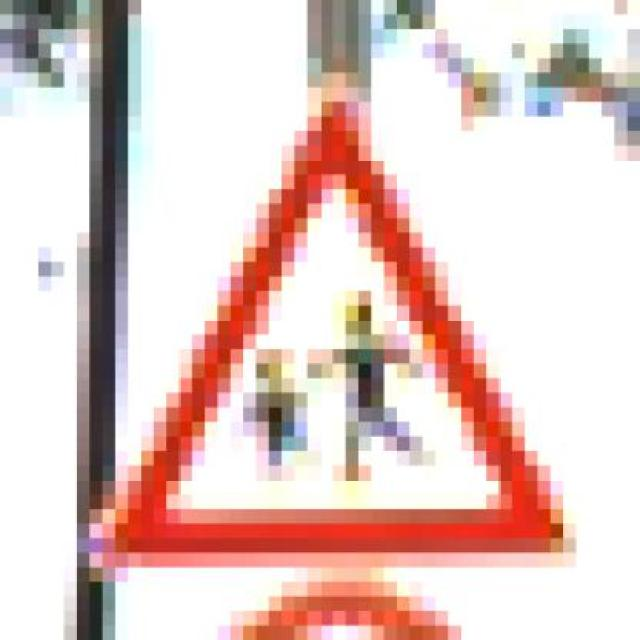Beware of children: (76, 73, 576, 582)
